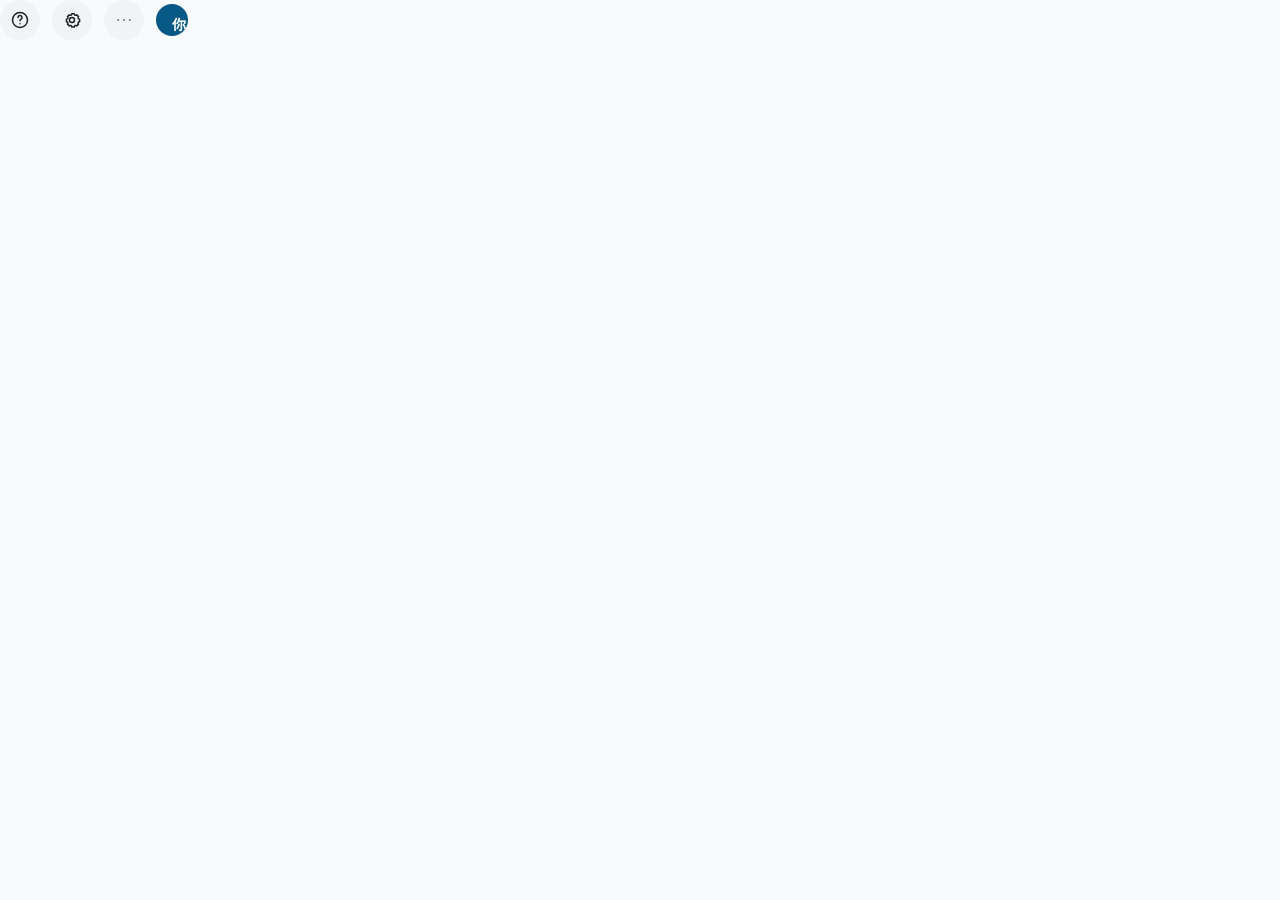
Test: closes the local user popover before opening privacy settings
Click the button named "本機使用者" at [172, 20], box [156,4,188,36]
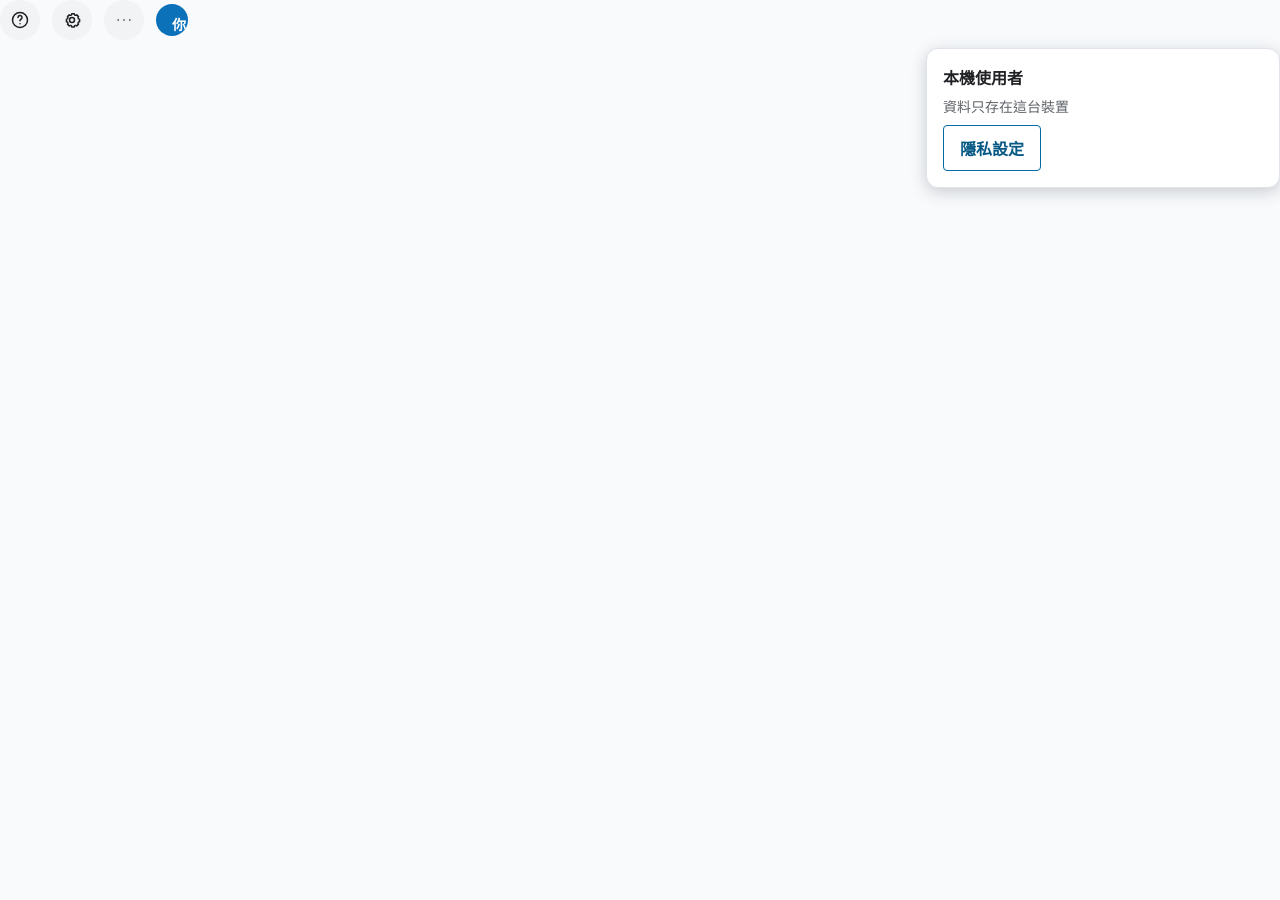
Click the button "隱私設定" at [992, 148], box [943,125,1041,171]
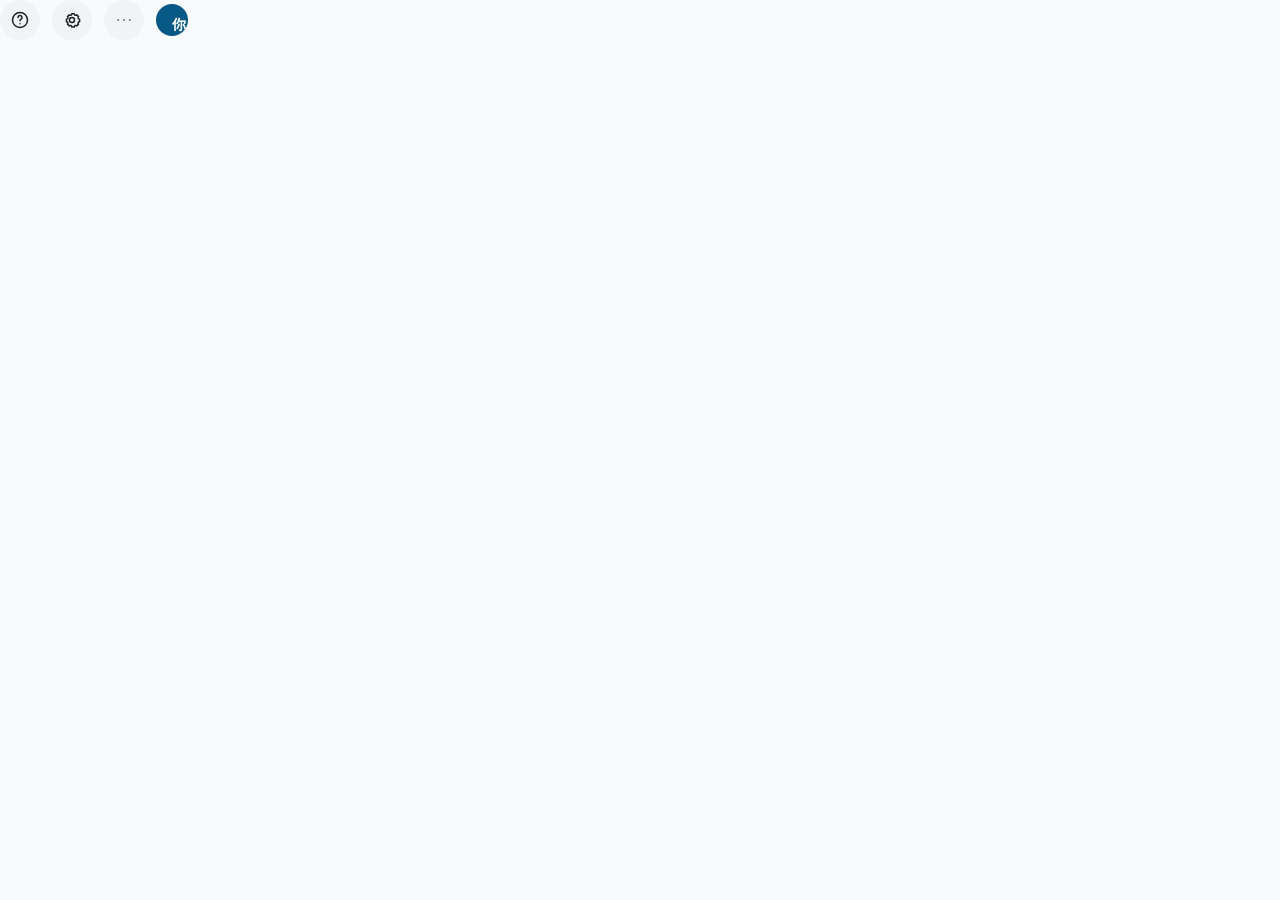
Expected: the heading "本機使用者" is gone
